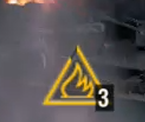3fire: (38, 67, 119, 112)
